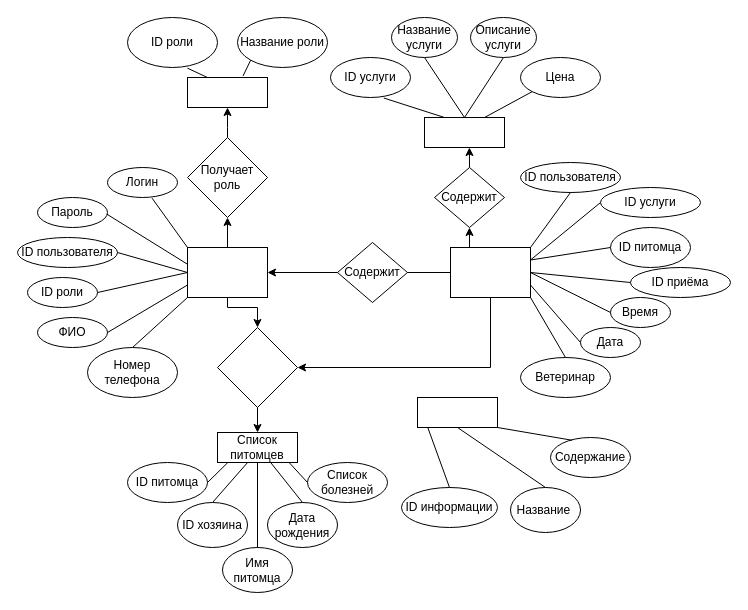
This 748x610 diagram has some shape labels left out. Each missing label, with the centre of its shape:
"Заявка на приём" goes at point (490, 272).
"Имеет" goes at point (257, 367).
"Информация" goes at point (457, 412).
"Пользователь" goes at point (227, 272).
"Роль" goes at point (227, 92).
"Услуги" goes at point (464, 132).
